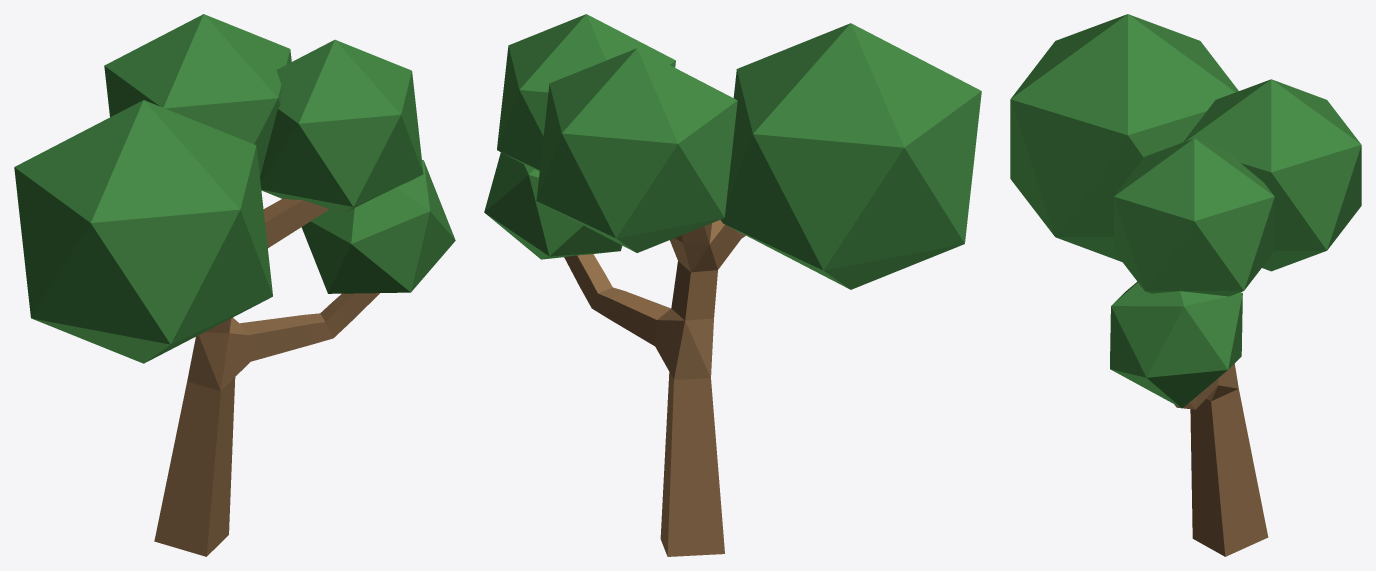
Rendered from tree02.glb.
3 views of the same model, side by side, from view 1: azimuth 30°, elevation 25°; view 2: azimuth 150°, elevation 25°; view 3: azimuth 270°, elevation 25° (orthographic). The views are drawn at different scales.
Visible parts, largest first — view 1: Icosphere.002, Icosphere.003, Cube, Icosphere.001, Icosphere; view 2: Icosphere.002, Icosphere.001, Cube, Icosphere.003, Icosphere; view 3: Icosphere.002, Icosphere.003, Icosphere.001, Icosphere, Cube.
Boxes of the visible parts, bbox=[...] form: Icosphere.002: bbox=[14, 100, 272, 363]; Icosphere.003: bbox=[260, 39, 423, 213]; Cube: bbox=[154, 198, 379, 556]; Icosphere.001: bbox=[104, 14, 291, 176]; Icosphere: bbox=[301, 160, 455, 293]; Icosphere.002: bbox=[721, 23, 981, 289]; Icosphere.001: bbox=[536, 48, 737, 252]; Cube: bbox=[564, 219, 745, 556]; Icosphere.003: bbox=[497, 14, 675, 171]; Icosphere: bbox=[484, 152, 622, 259]; Icosphere.002: bbox=[1010, 14, 1238, 261]; Icosphere.003: bbox=[1114, 138, 1274, 296]; Icosphere.001: bbox=[1183, 79, 1361, 271]; Icosphere: bbox=[1110, 281, 1242, 408]; Cube: bbox=[1174, 363, 1268, 556].
Bounding box in the file's own units: 8.88 × 9.87 × 6.55.
